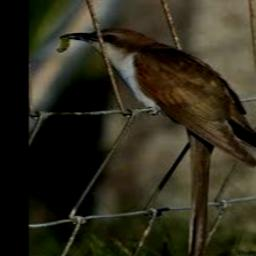Cuckoo: (59, 28, 256, 256)
